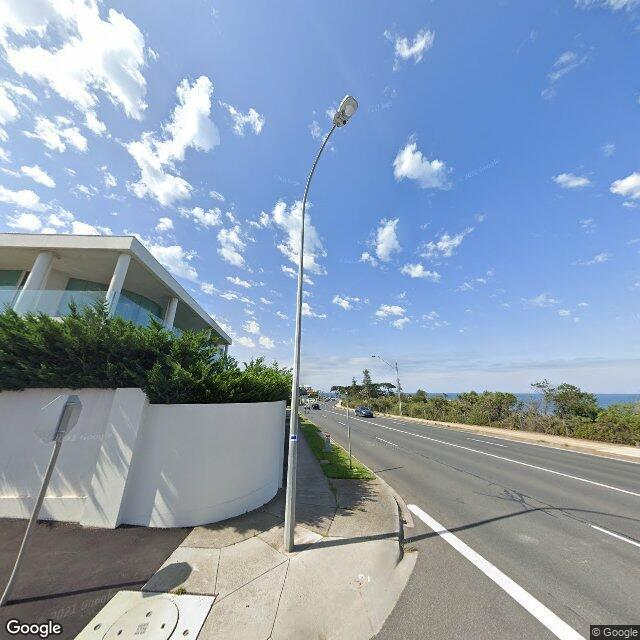steel-pole: (284, 266, 303, 552), (396, 362, 402, 416)
streetlight: (299, 94, 359, 267), (372, 356, 396, 370)
